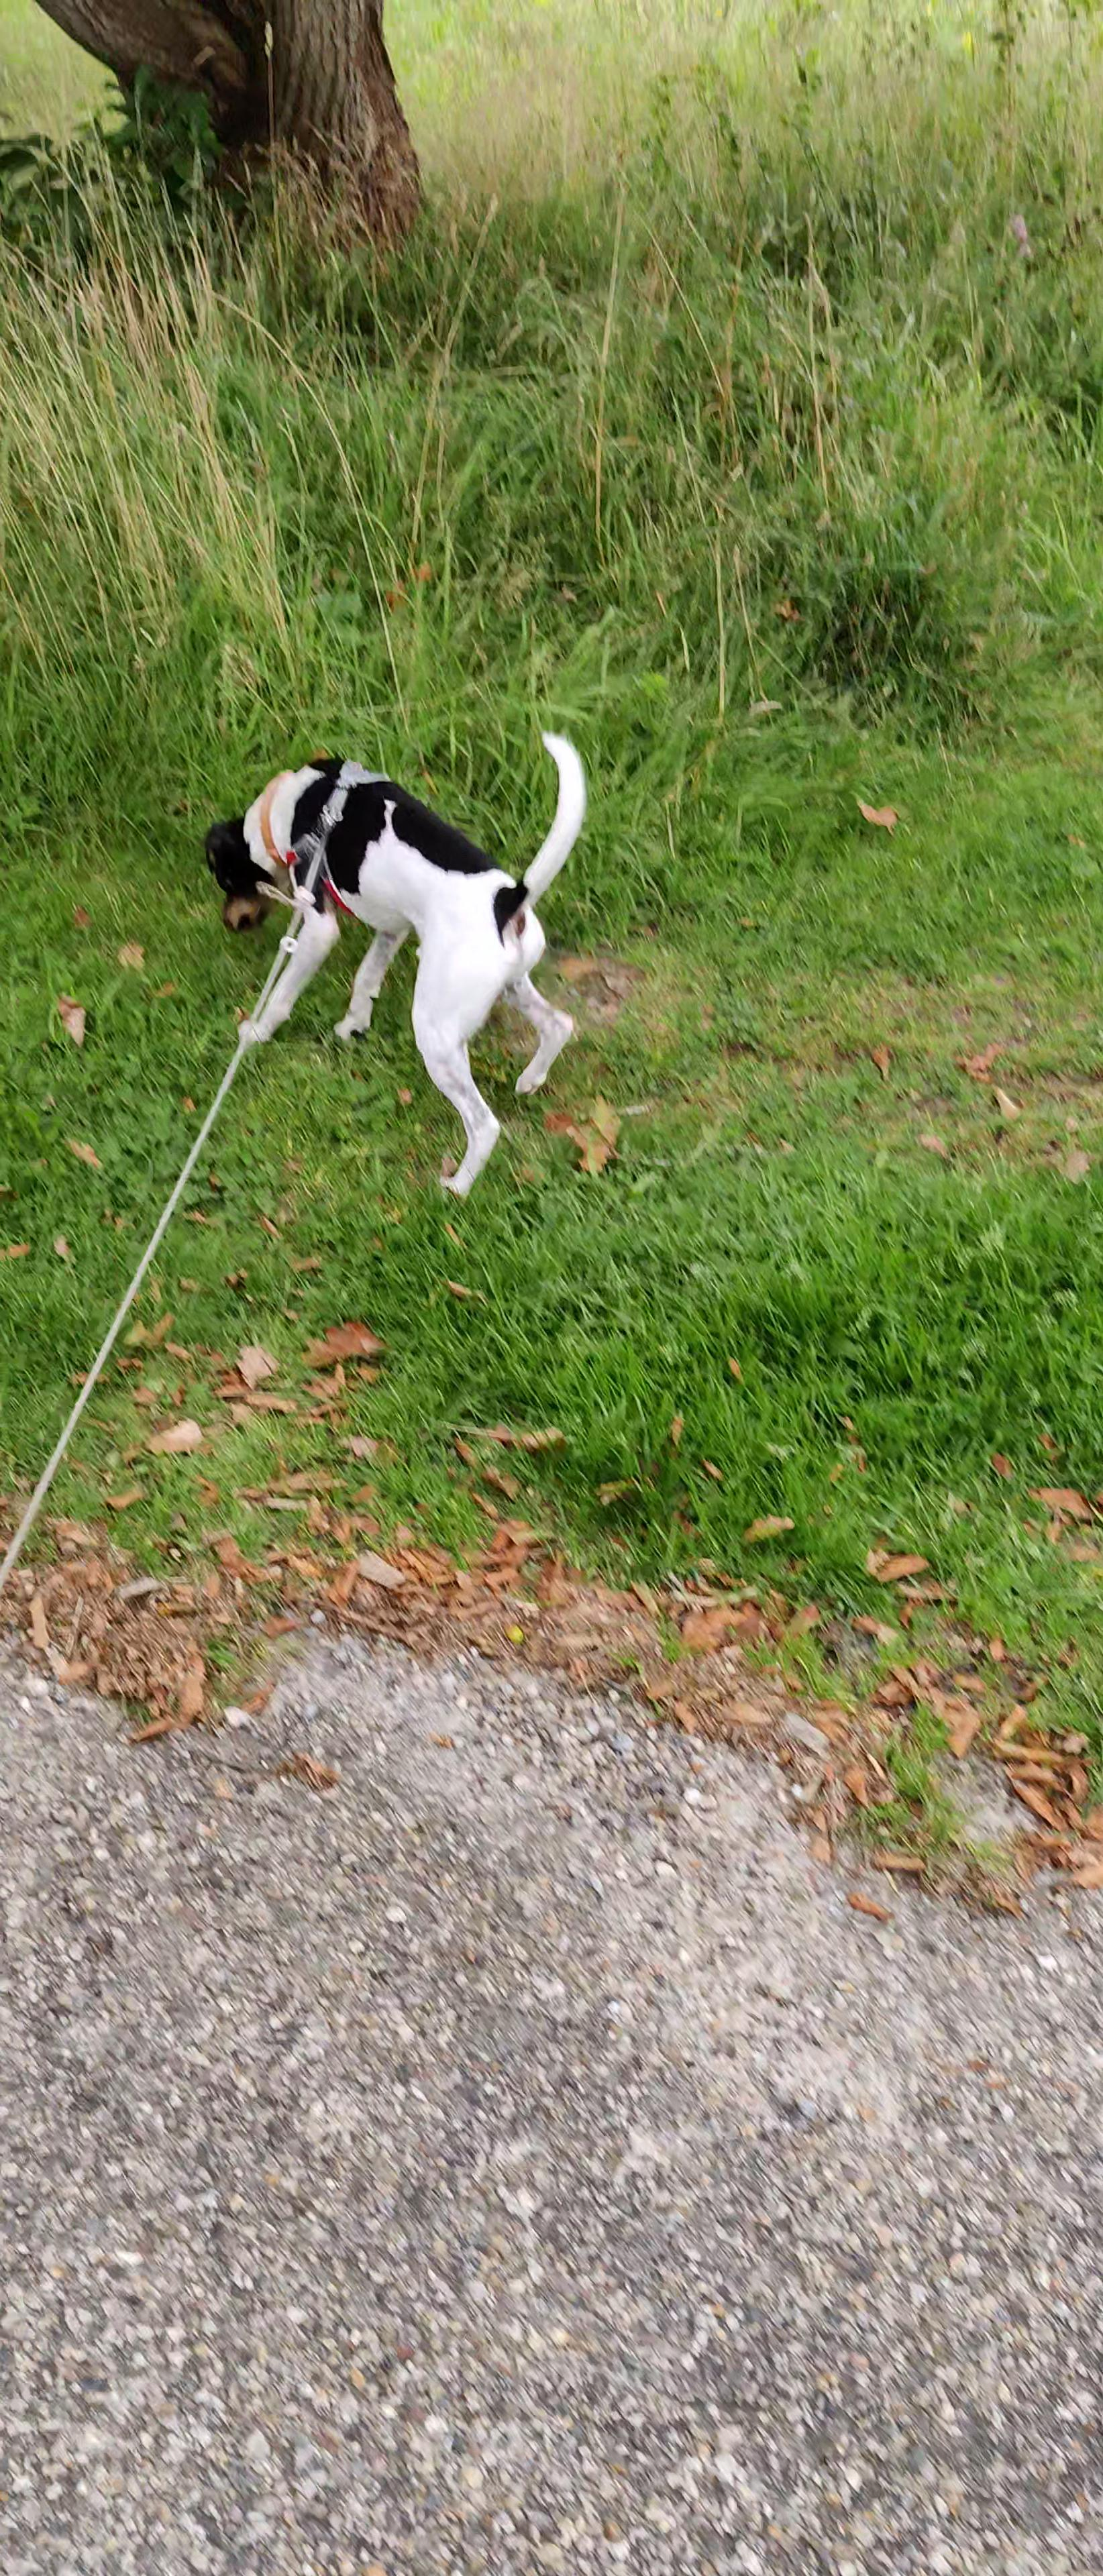Dog: (196, 728, 595, 1209)
